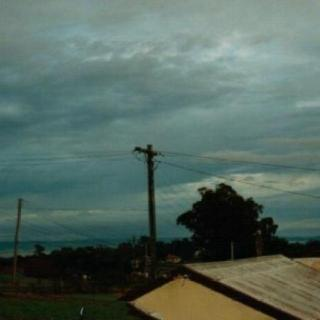Stratocumulus: (0, 0, 311, 221)
